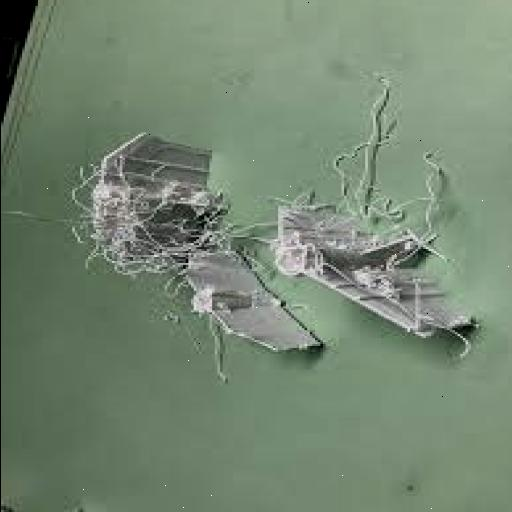spaghetti: (314, 64, 439, 312), (54, 175, 206, 304), (190, 142, 242, 304)
